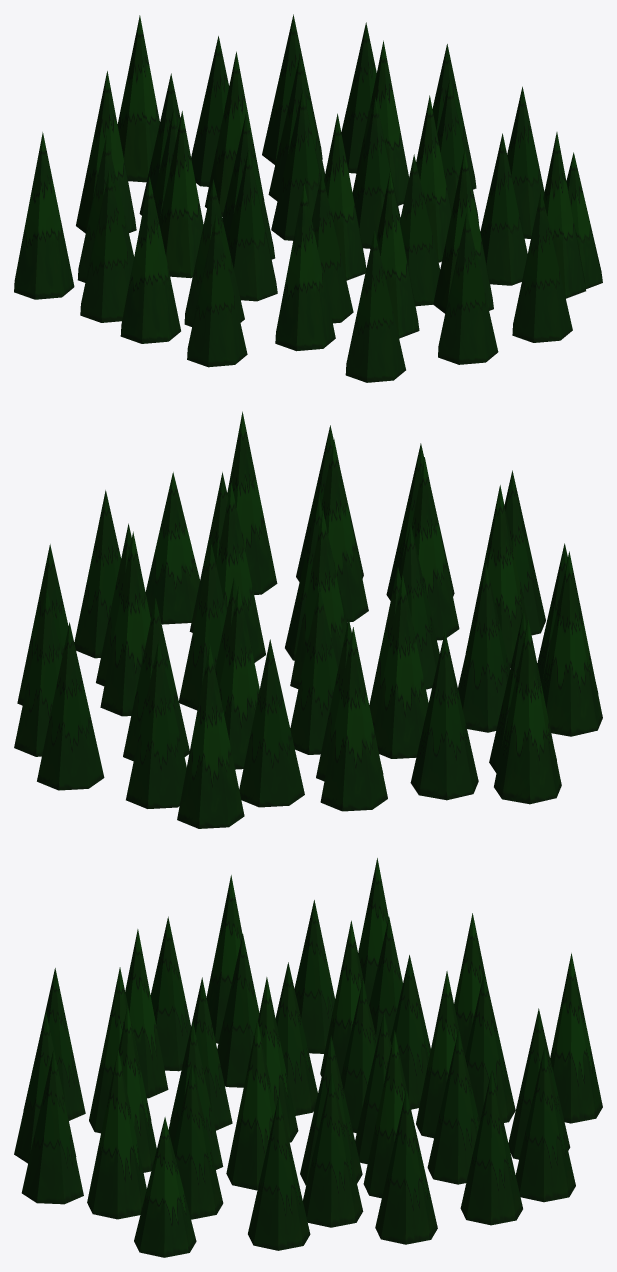
The model's file is forest_1.fbx.
3 renders of one model, top to bottom at view 1: azimuth 30°, elevation 25°; view 2: azimuth 150°, elevation 25°; view 3: azimuth 270°, elevation 25°, orthographic. The views are drawn at different scales.
Visible parts, largest first — view 1: polySurface54; view 2: polySurface54; view 3: polySurface54.
Part boxes in pixels (box(x1,y1,x2,y2)): polySurface54: box(14, 14, 602, 382); polySurface54: box(14, 411, 602, 828); polySurface54: box(14, 858, 602, 1257).
Size of the model in its own units: 29.78 by 10.16 by 30.81.
